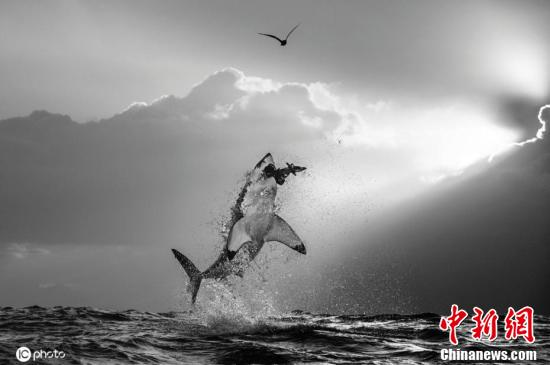shark: (156, 145, 317, 307)
